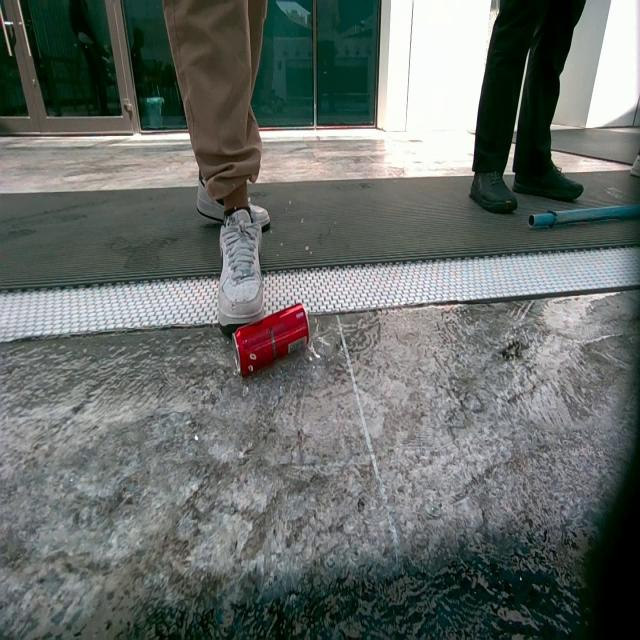Cans: (238, 306, 312, 381)
